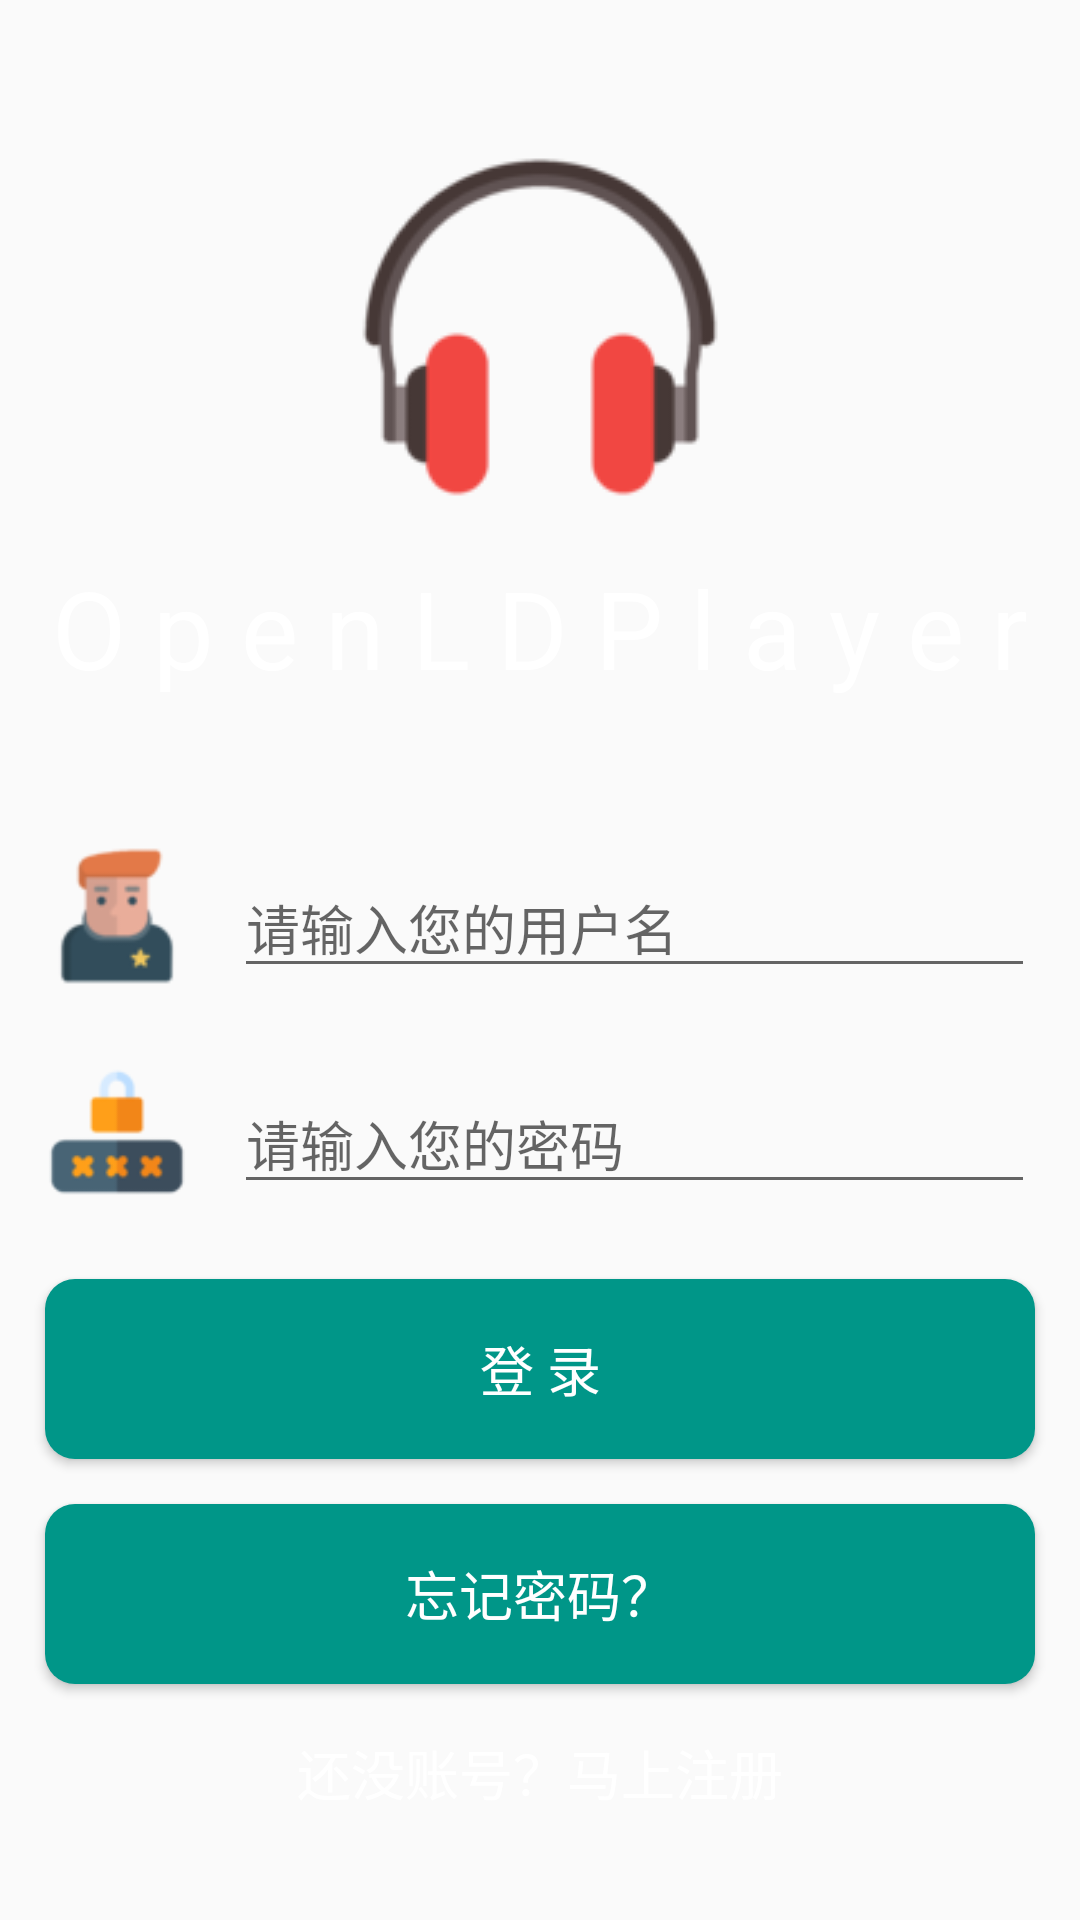

Screen size 1080*1920. Icon name, then its center in pixels as point (x, y):
passwd: point (117, 1133)
user: point (117, 916)
